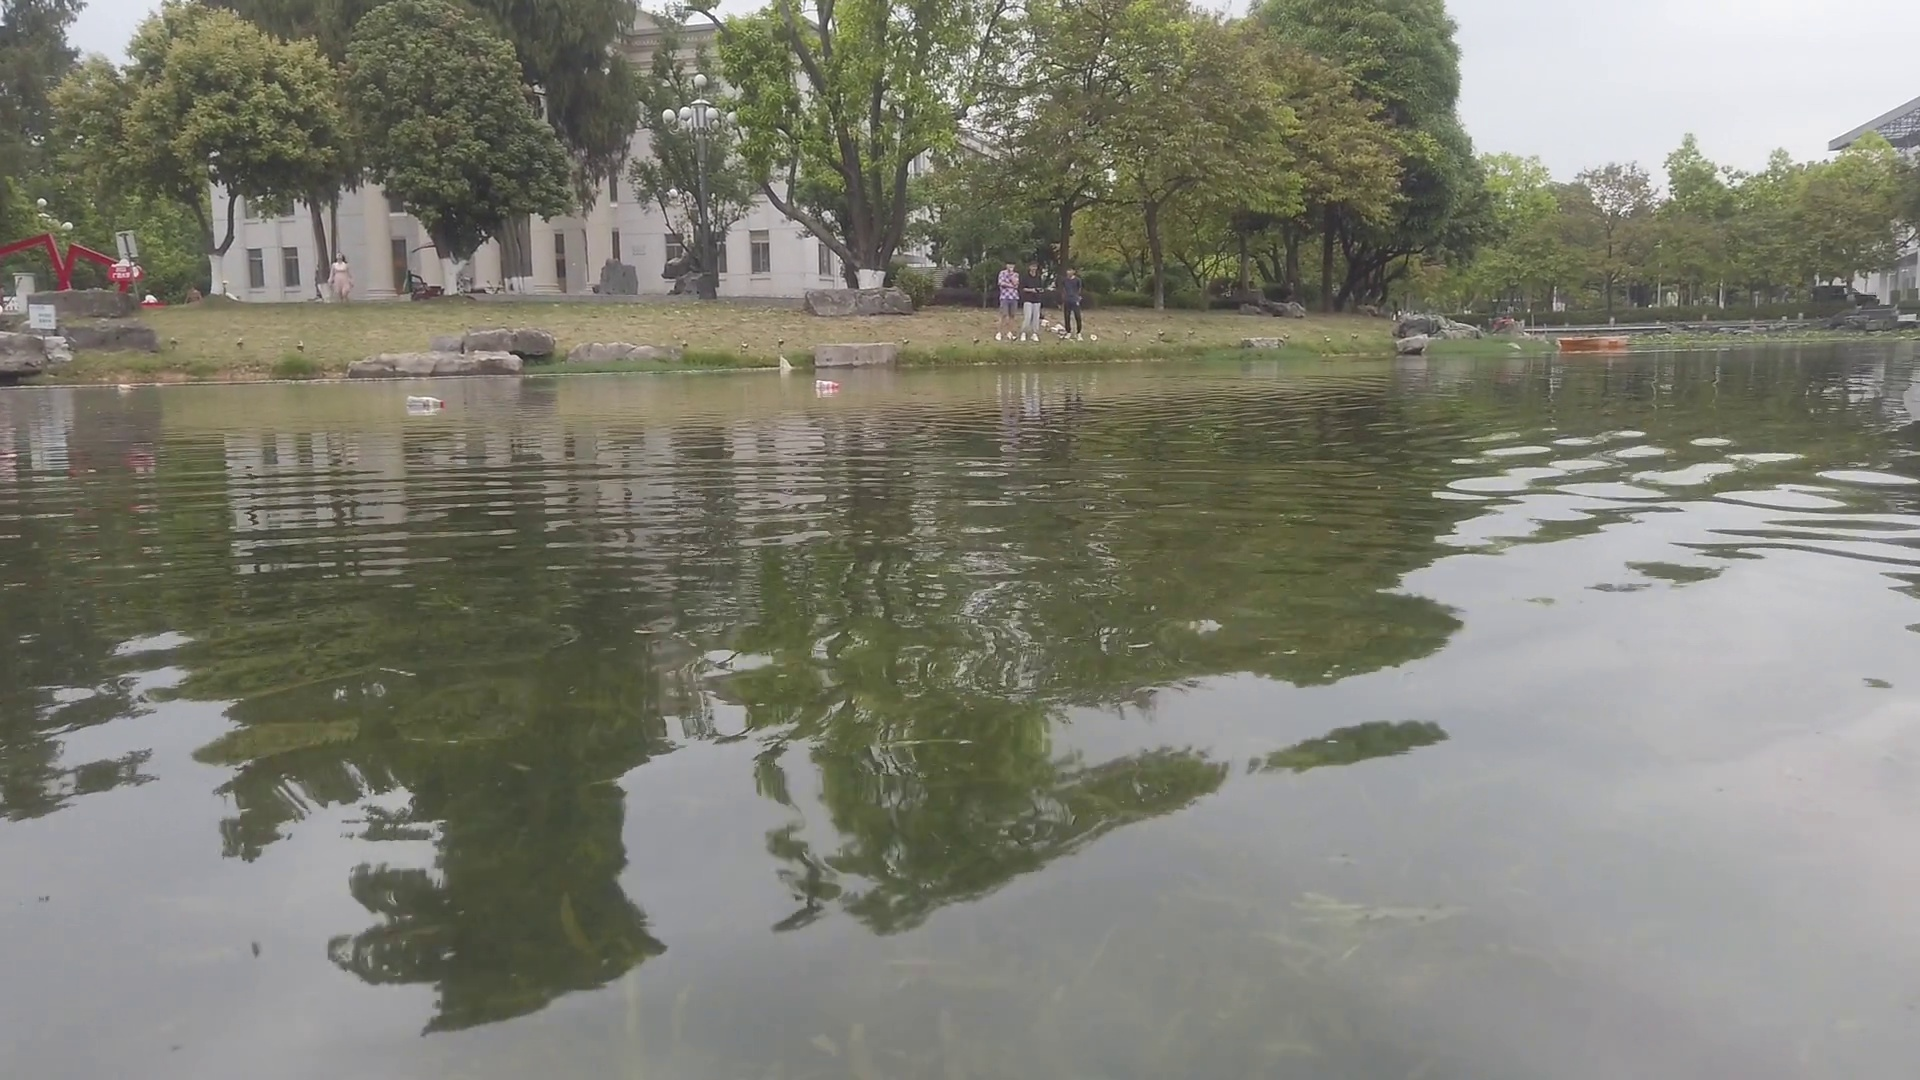bottle: (405, 396, 444, 411), (815, 378, 840, 390), (117, 382, 135, 392)
